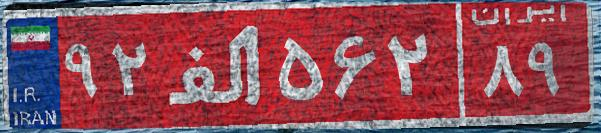2: (385, 28, 445, 110), (110, 28, 158, 105)
5: (273, 28, 330, 110)
6: (330, 28, 385, 110)
8: (475, 38, 525, 113)
9: (57, 26, 110, 107), (525, 38, 570, 115)
الف: (158, 15, 273, 115)
